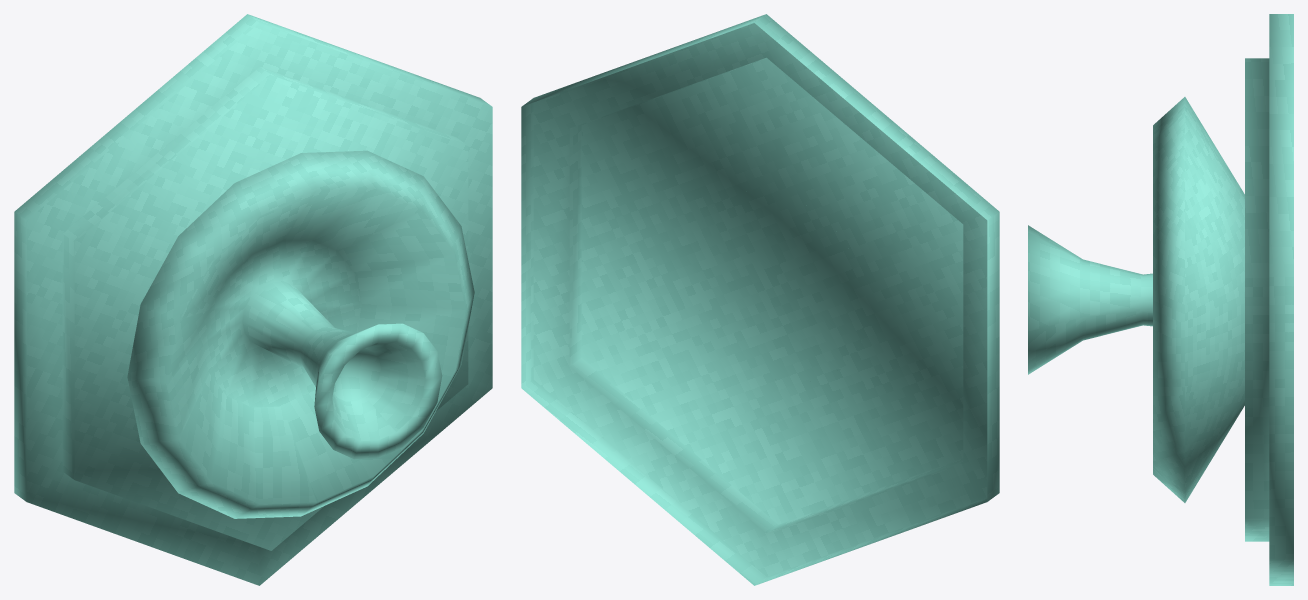
The model's file is fountain.fbx.
3 renders of one model, left to right at view 1: azimuth 30°, elevation 25°; view 2: azimuth 150°, elevation 25°; view 3: azimuth 270°, elevation 25°, orthographic.
Parts seen in each view (by area): view 1: Cylinder; view 2: Cylinder; view 3: Cylinder.
Part boxes in pixels (x1,y1,x2,y2): Cylinder: (14, 14, 492, 585); Cylinder: (521, 14, 999, 585); Cylinder: (1028, 14, 1293, 585).
Size of the model in its own units: 222 by 256 by 108.
1 material, 1 textured.
